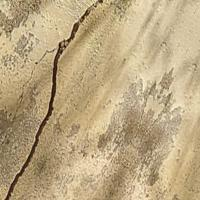crack: (5, 3, 123, 199)
